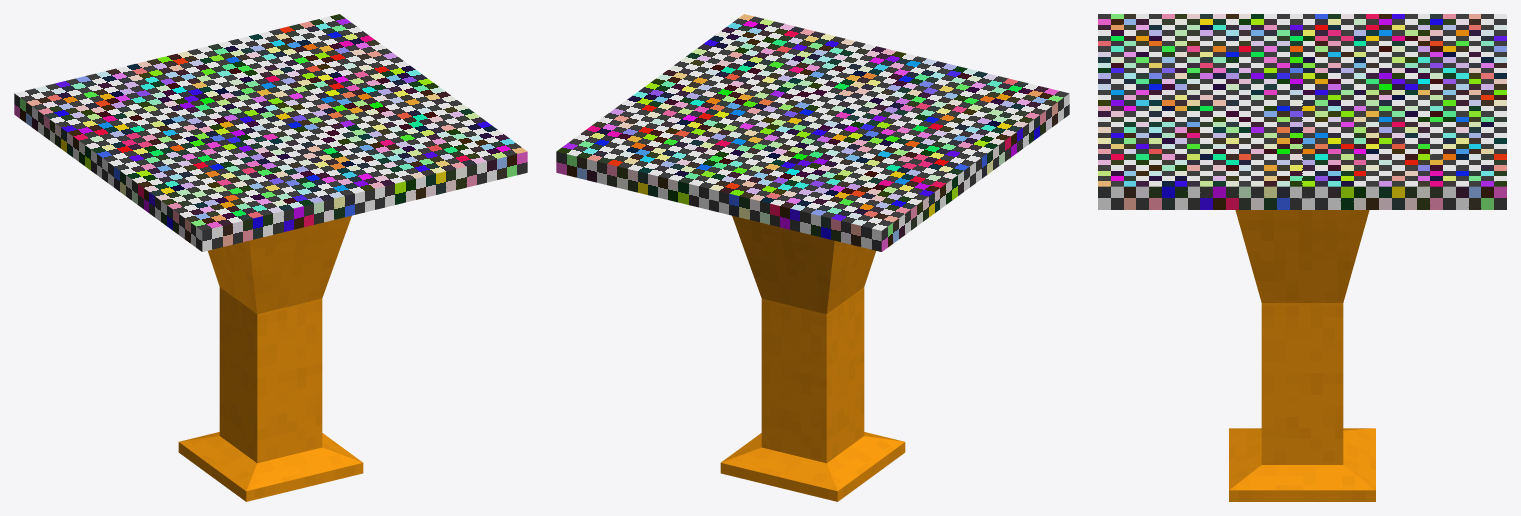
Rendered from table.obj.
3 renders of one model, left to right at view 1: azimuth 30°, elevation 25°; view 2: azimuth 150°, elevation 25°; view 3: azimuth 270°, elevation 25°, orthographic. The views are drawn at different scales.
Visible parts, largest first — view 1: Cube_Top, Cube_Bottom; view 2: Cube_Top, Cube_Bottom; view 3: Cube_Top, Cube_Bottom.
Part boxes in pixels (bbox=[...]): Cube_Top: bbox=[14, 14, 527, 251]; Cube_Bottom: bbox=[178, 215, 363, 501]; Cube_Top: bbox=[556, 14, 1069, 251]; Cube_Bottom: bbox=[720, 215, 905, 501]; Cube_Top: bbox=[1098, 14, 1506, 209]; Cube_Bottom: bbox=[1229, 210, 1375, 501].
Bounding box in the file's own units: 1 × 1 × 1.
